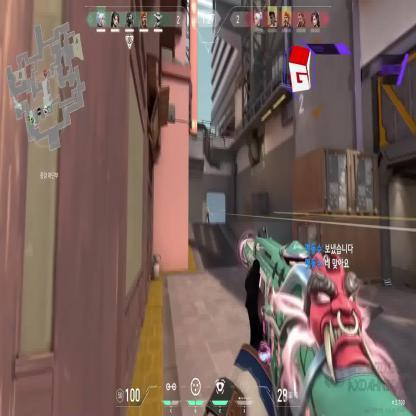enemy: (204, 206, 210, 223)
enemy_head: (206, 206, 208, 210)
